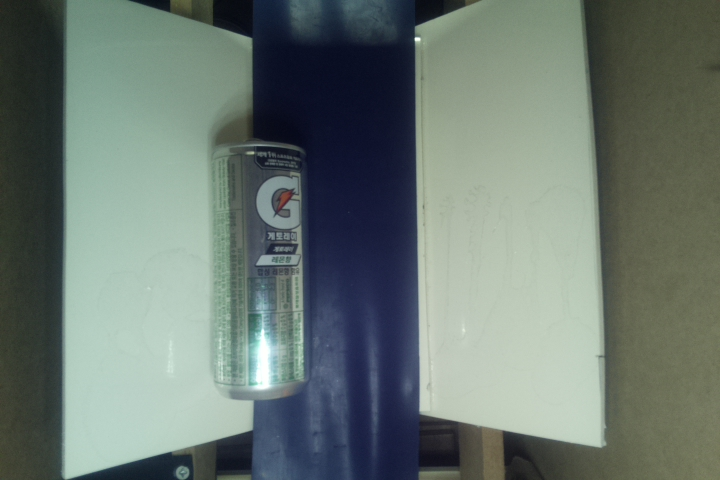can: (212, 141, 305, 401)
